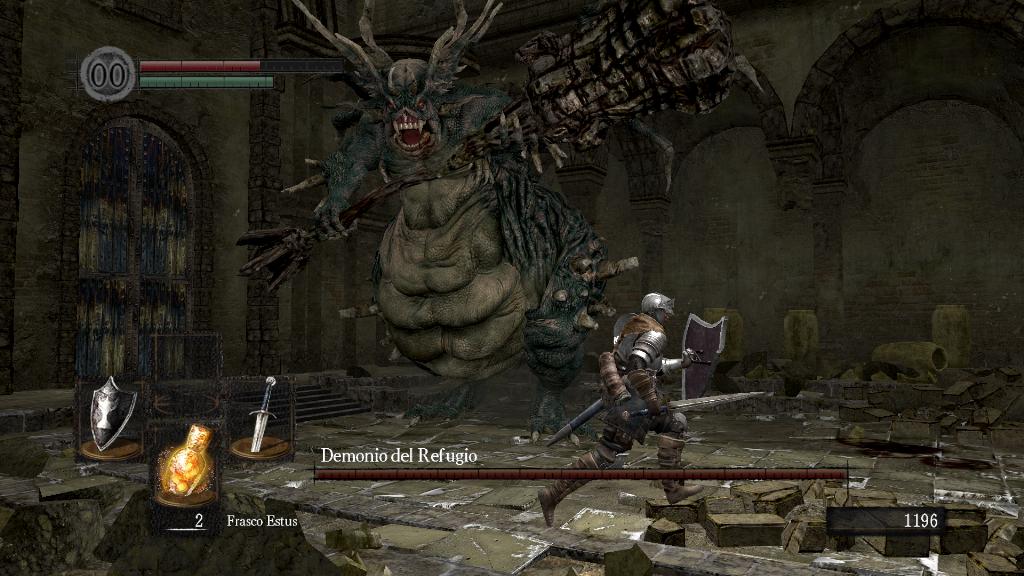asylumDemon: (233, 8, 741, 442)
bossHP: (314, 469, 847, 479)
health: (138, 58, 343, 71)
humanity: (80, 45, 136, 102)
player: (536, 291, 774, 526)
souls: (825, 506, 945, 536)
stamina: (138, 74, 274, 88)
